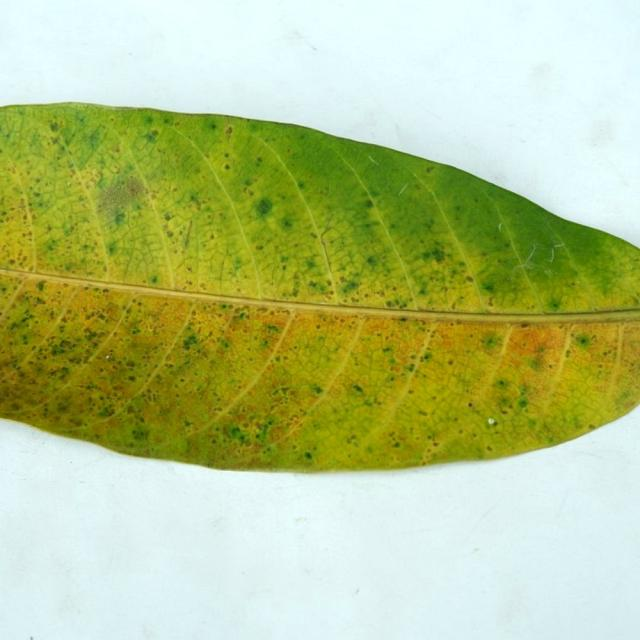Mango: (0, 104, 639, 471)
Powdery_Mildew: (502, 325, 568, 383), (97, 174, 150, 221), (47, 332, 89, 360), (249, 191, 273, 216), (356, 392, 386, 412), (421, 246, 450, 266), (84, 127, 104, 154), (253, 421, 274, 442), (496, 395, 517, 415), (83, 328, 103, 345), (182, 334, 199, 351), (228, 425, 245, 441), (619, 388, 635, 403), (483, 335, 500, 349), (303, 258, 318, 273), (342, 281, 358, 294), (272, 386, 289, 398), (127, 184, 141, 197), (187, 194, 201, 207), (481, 281, 496, 293), (232, 256, 243, 272), (365, 255, 379, 267), (265, 323, 280, 334), (281, 218, 294, 230), (147, 129, 159, 142), (99, 406, 113, 417), (517, 397, 529, 409), (35, 280, 46, 292), (130, 324, 142, 335), (576, 336, 589, 346), (351, 384, 364, 394), (49, 121, 60, 132), (363, 199, 375, 209), (549, 300, 561, 310), (385, 299, 398, 308), (312, 384, 323, 394), (220, 338, 230, 349), (382, 346, 393, 355), (425, 165, 436, 173), (149, 275, 158, 284), (209, 122, 218, 131), (347, 435, 357, 443), (225, 126, 233, 136), (304, 451, 312, 460), (489, 418, 498, 426), (520, 322, 530, 329), (486, 299, 494, 307), (497, 379, 506, 386), (67, 160, 74, 169), (418, 410, 428, 416), (466, 276, 474, 283), (392, 441, 400, 448), (33, 191, 41, 198), (102, 287, 110, 294), (199, 283, 207, 290), (128, 375, 135, 381), (310, 232, 317, 238), (224, 164, 230, 170), (447, 359, 453, 365), (486, 445, 492, 451), (468, 402, 473, 408), (224, 153, 229, 158)
